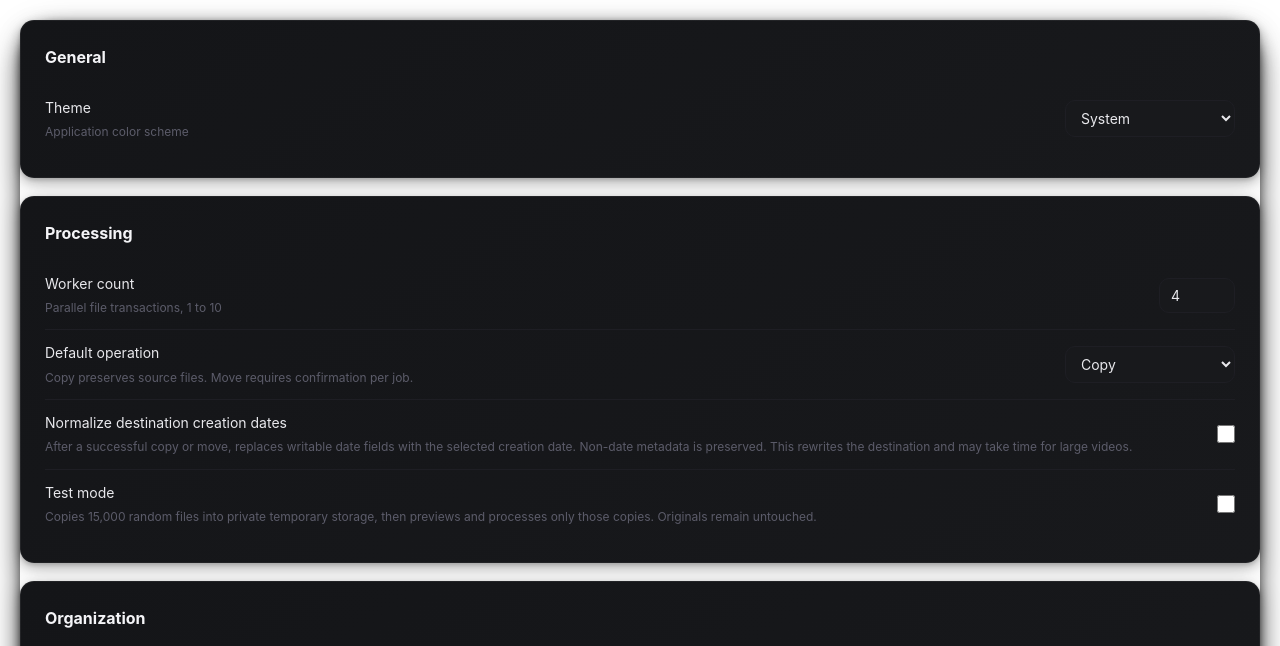
Test: SettingsView › shows only real settings and persists a nested change before claiming success
Replace the text in the number field labelled "Worker count" with "6" at [1197, 295], box [1159,278,1235,312]
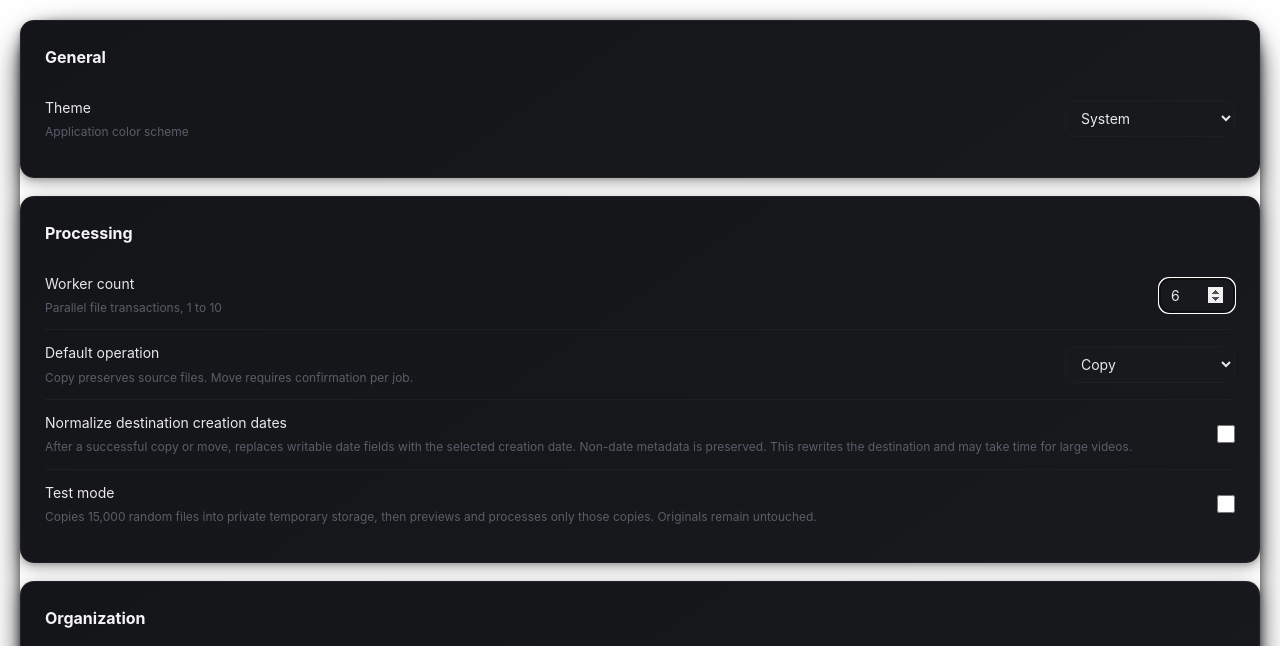
Press Tab
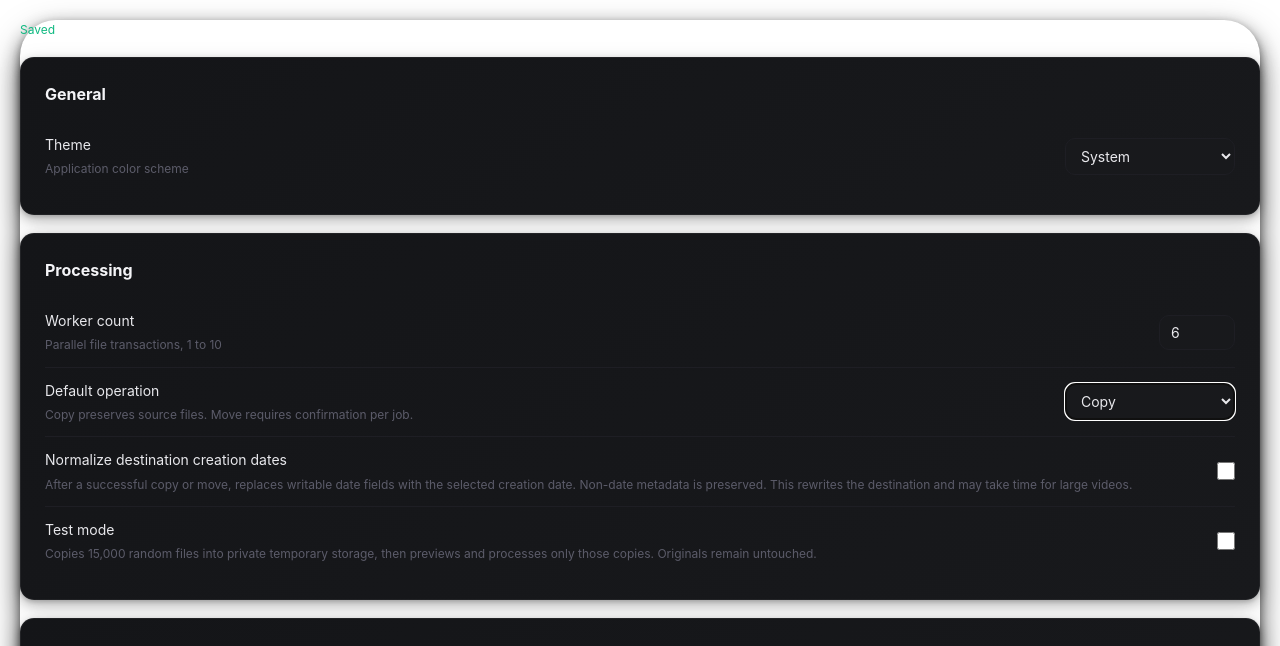
Result: the text "Saved" is shown at [20,22,55,37]
